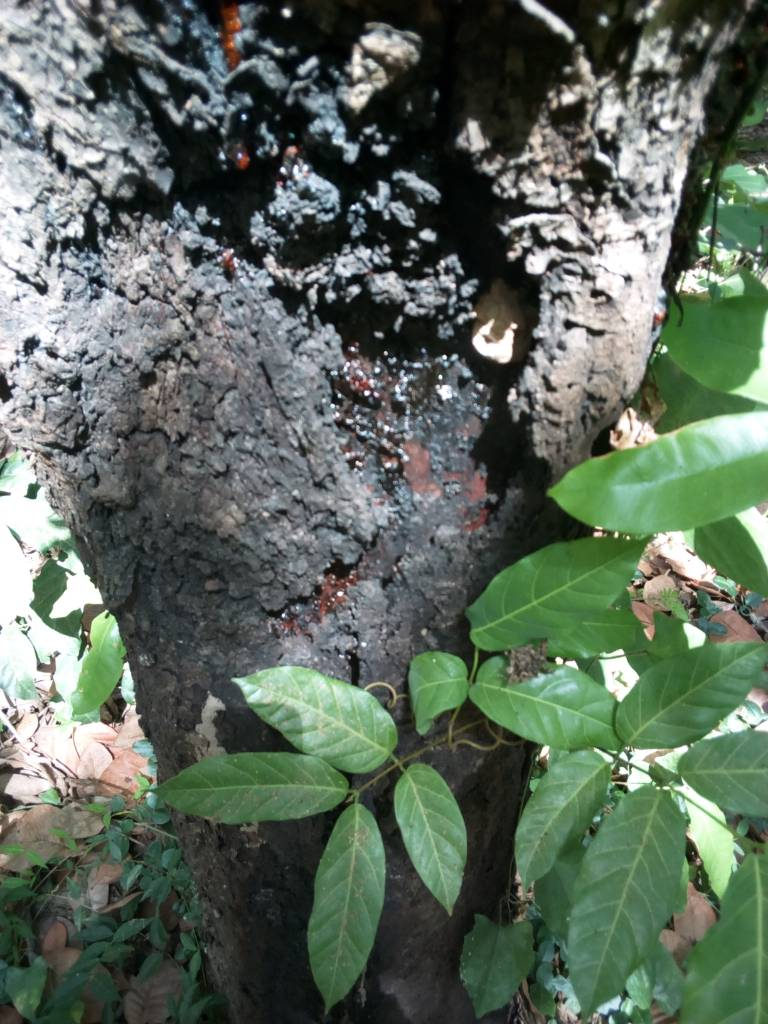Gommose: (299, 350, 436, 617)
